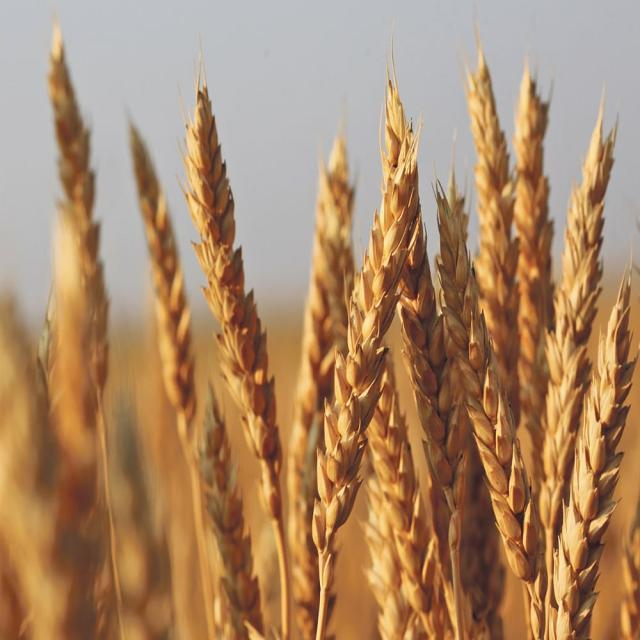healthy_wheat: (2, 20, 308, 640), (315, 56, 635, 640)
